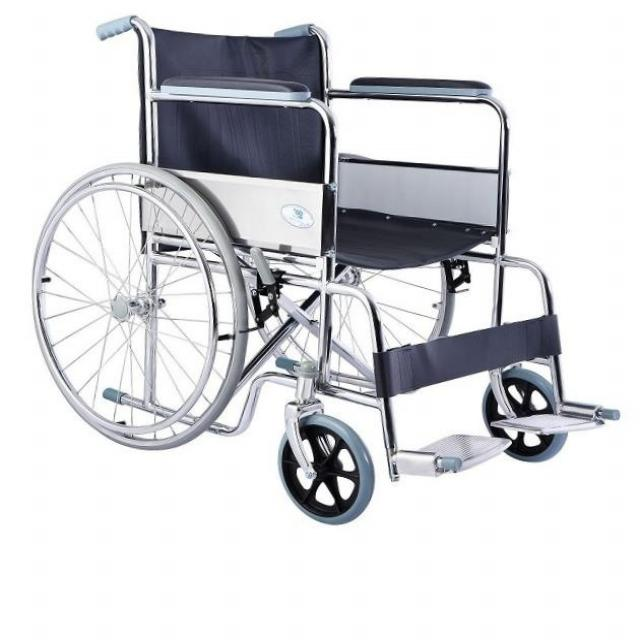wheelchair: (2, 4, 640, 534)
